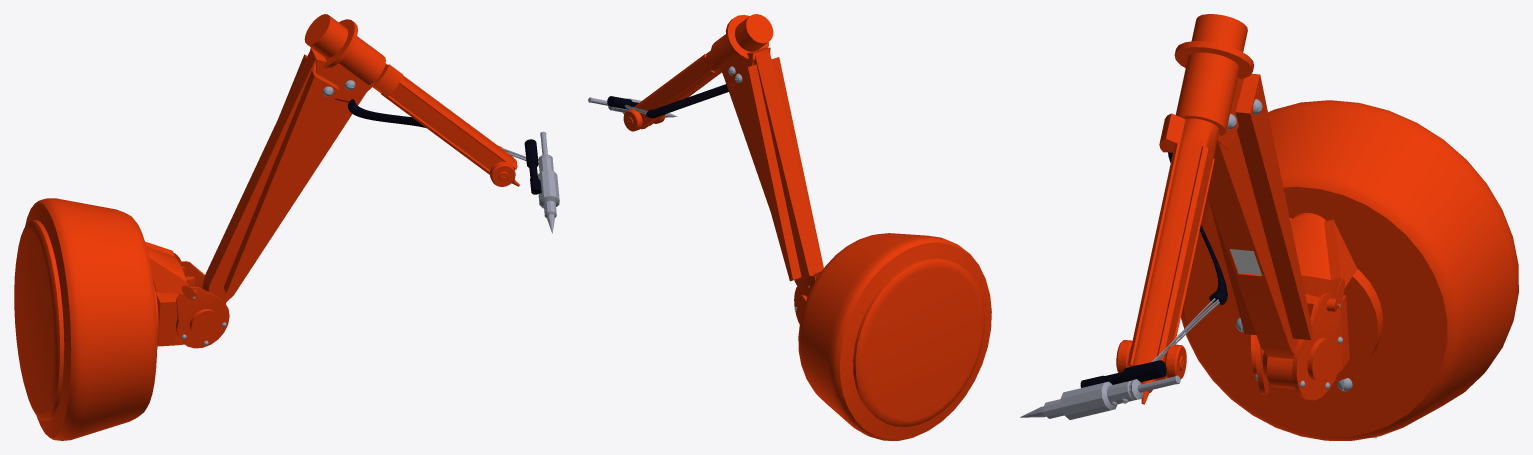
Rendered from Arm.fbx.
3 renders of one model, left to right at view 1: azimuth 30°, elevation 25°; view 2: azimuth 150°, elevation 25°; view 3: azimuth 270°, elevation 25°, orthographic. The views are drawn at different scales.
Parts seen in each view (by area): view 1: body, arm; view 2: body; view 3: body, arm.
Part boxes in pixels (x1,y1,x2,y2): body: (14, 14, 541, 440); arm: (537, 131, 559, 233); body: (607, 14, 991, 440); body: (1080, 14, 1518, 440); arm: (1020, 375, 1180, 419).
Size of the model in its own units: 5.79 by 4.6 by 3.69.
